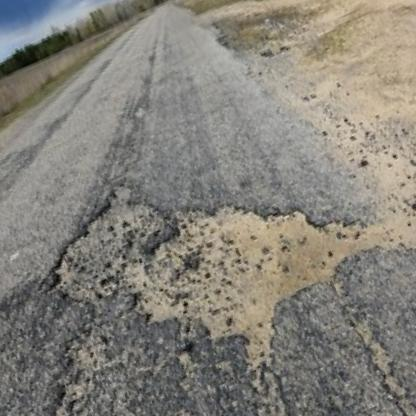pothole: (30, 98, 400, 416)
